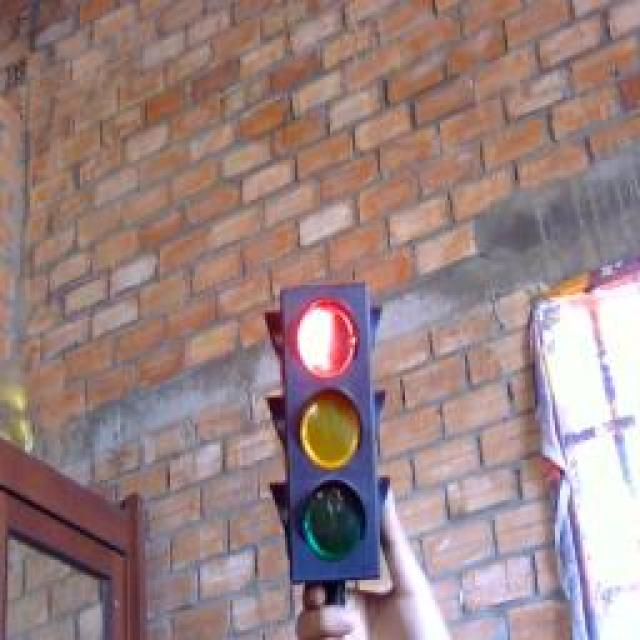-: (287, 291, 375, 383)
